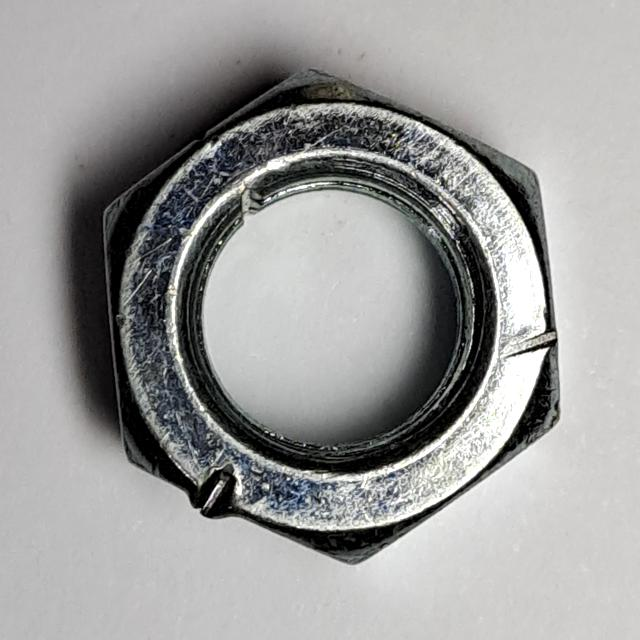Scratches: (96, 55, 575, 576)
